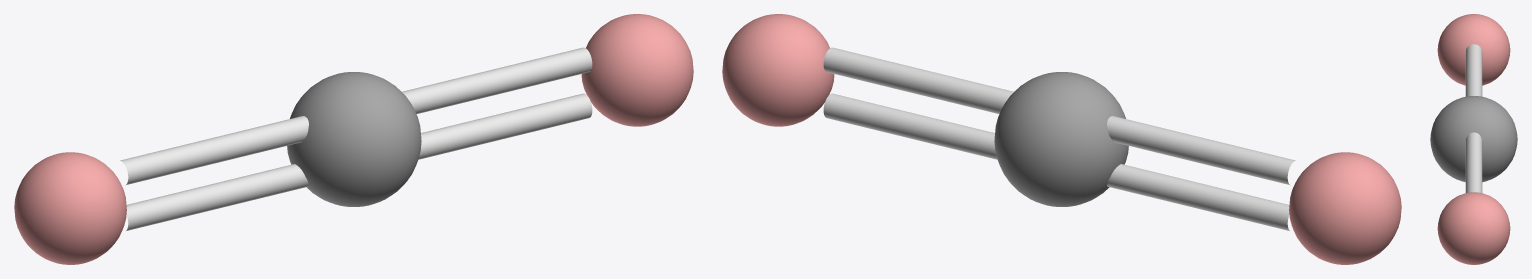
File: co2-molecule.glb
3 views of the same model, side by side, from view 1: azimuth 30°, elevation 25°; view 2: azimuth 150°, elevation 25°; view 3: azimuth 270°, elevation 25° (orthographic). The views are drawn at different scales.
Visible parts, largest first — view 1: carbon_atom, oxygen_atom_left, oxygen_atom_right, double_bond_left, double_bond_right, double_bond_left_2, double_bond_right_2; view 2: carbon_atom, oxygen_atom_left, oxygen_atom_right, double_bond_left, double_bond_right, double_bond_left_2, double_bond_right_2; view 3: carbon_atom, oxygen_atom_right, oxygen_atom_left, double_bond_right, double_bond_left.
Part boxes in pixels (left/top/right/bottom): carbon_atom: left=287, top=72, right=421, bottom=206; oxygen_atom_left: left=14, top=152, right=126, bottom=264; oxygen_atom_right: left=581, top=14, right=693, bottom=126; double_bond_left: left=120, top=116, right=308, bottom=185; double_bond_right: left=402, top=47, right=592, bottom=113; double_bond_left_2: left=126, top=164, right=308, bottom=230; double_bond_right_2: left=418, top=93, right=592, bottom=159; carbon_atom: left=994, top=72, right=1128, bottom=206; oxygen_atom_left: left=1289, top=152, right=1401, bottom=264; oxygen_atom_right: left=722, top=14, right=834, bottom=126; double_bond_left: left=1107, top=116, right=1295, bottom=185; double_bond_right: left=823, top=47, right=1013, bottom=113; double_bond_left_2: left=1107, top=164, right=1289, bottom=230; double_bond_right_2: left=823, top=93, right=997, bottom=159; carbon_atom: left=1430, top=96, right=1517, bottom=182; oxygen_atom_right: left=1437, top=192, right=1510, bottom=264; oxygen_atom_left: left=1437, top=14, right=1510, bottom=85; double_bond_right: left=1465, top=132, right=1482, bottom=192; double_bond_left: left=1465, top=44, right=1482, bottom=96.
Bounding box in the file's own units: 1.94 × 0.3424 × 0.3424.
